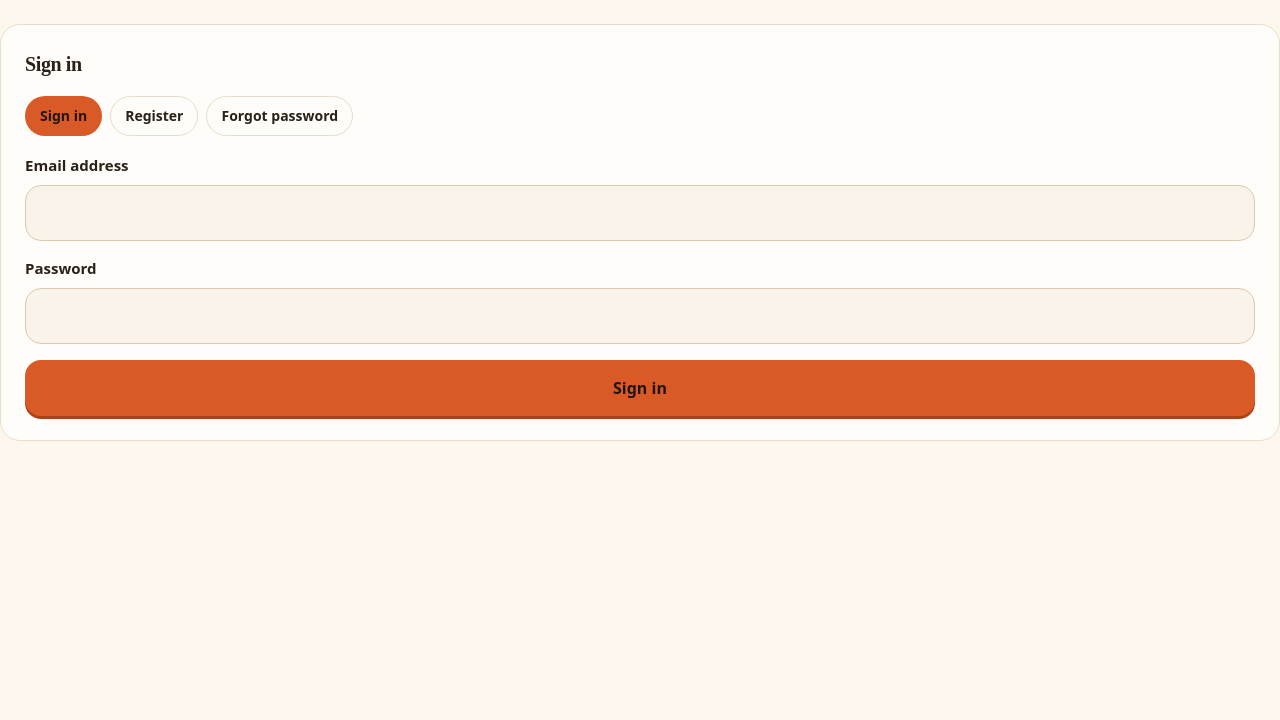
AuthPanel › tells a new account to go and confirm its address
The image size is (1280, 720).
Click the tab "Register": (154, 116) x1=110 y1=96 x2=198 y2=136
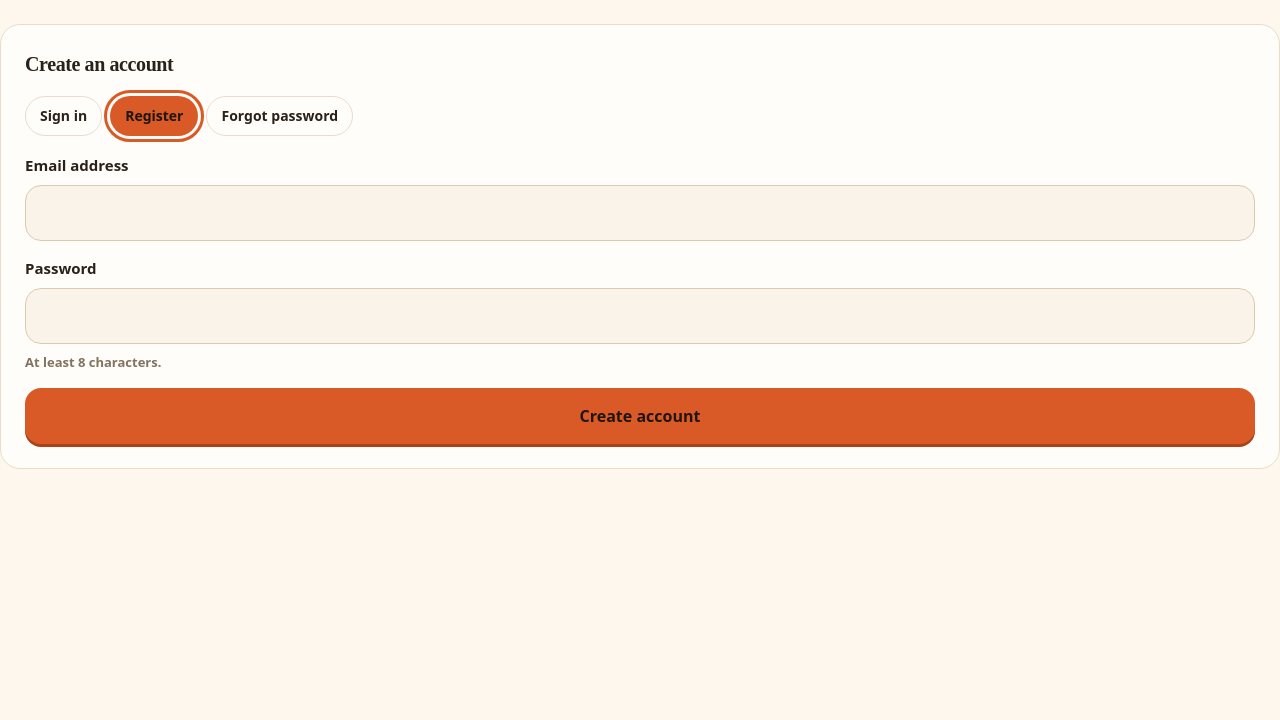
In the field labelled "Email address": (640, 213) x1=25 y1=185 x2=1255 y2=241, type "pending@example.com"
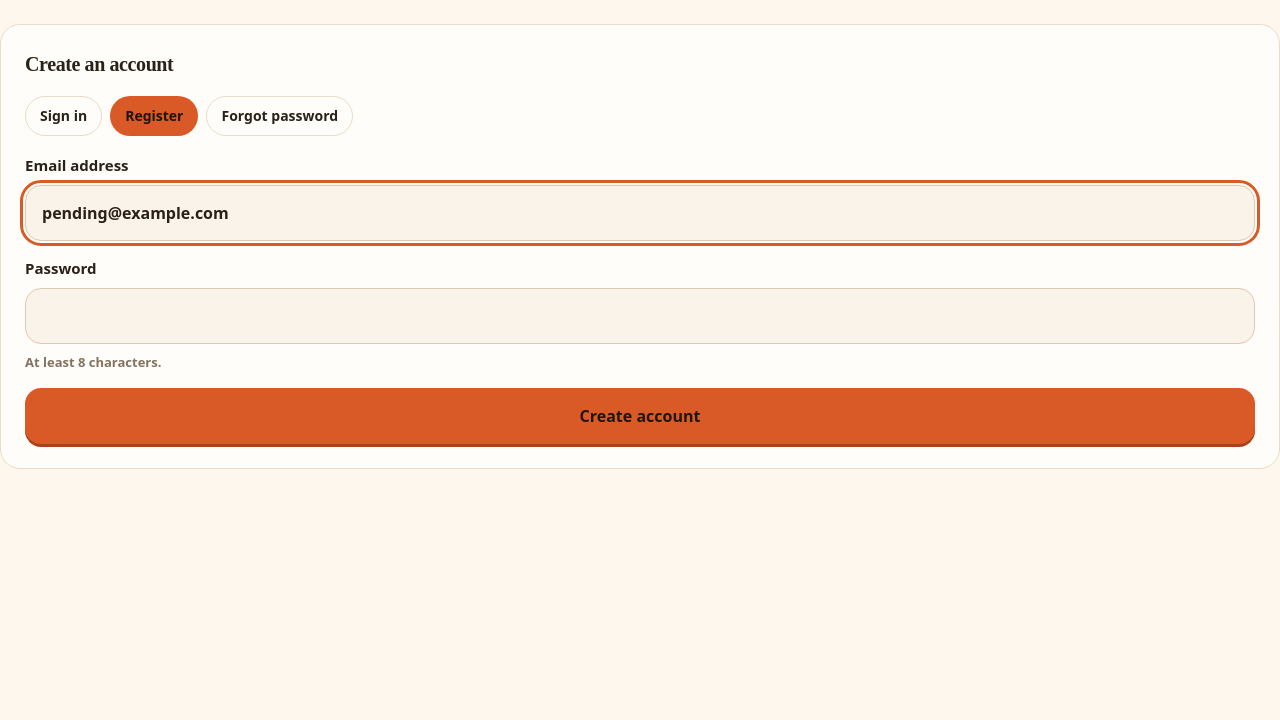
In the password field labelled "Password": (640, 316) x1=25 y1=288 x2=1255 y2=344, type "longenough"
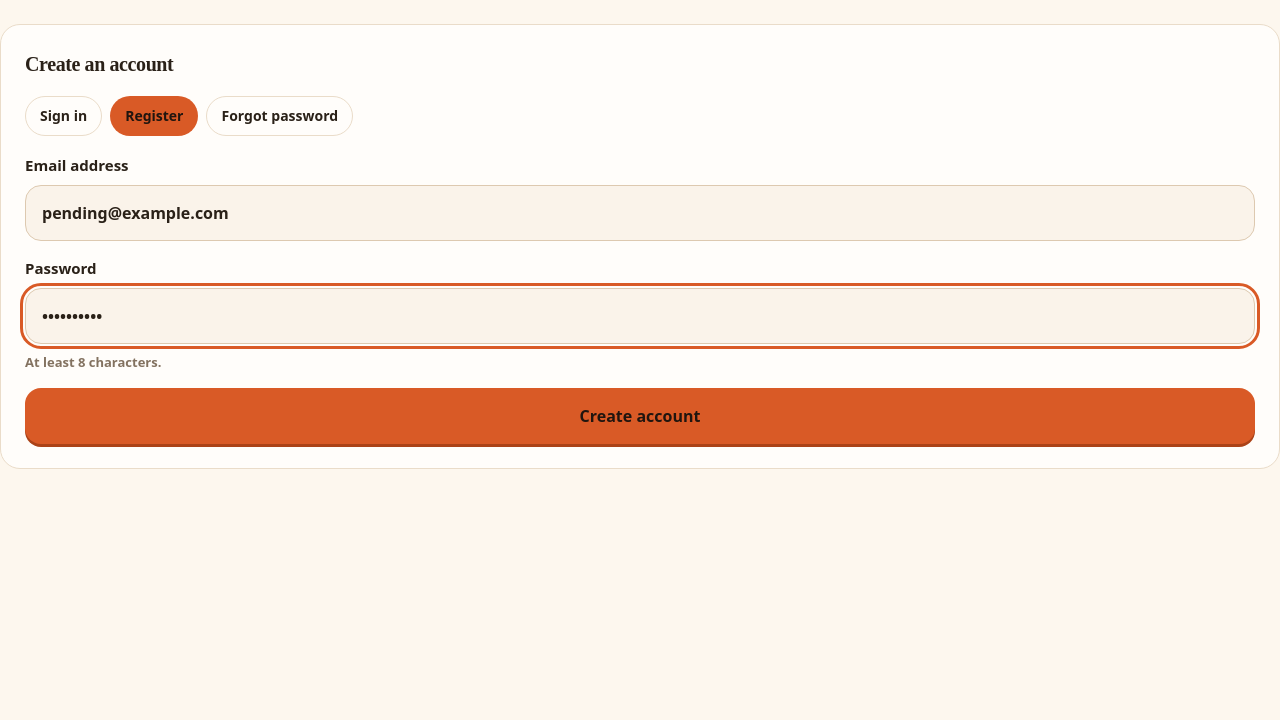
Click the button "Create account": (640, 416) x1=25 y1=388 x2=1255 y2=444
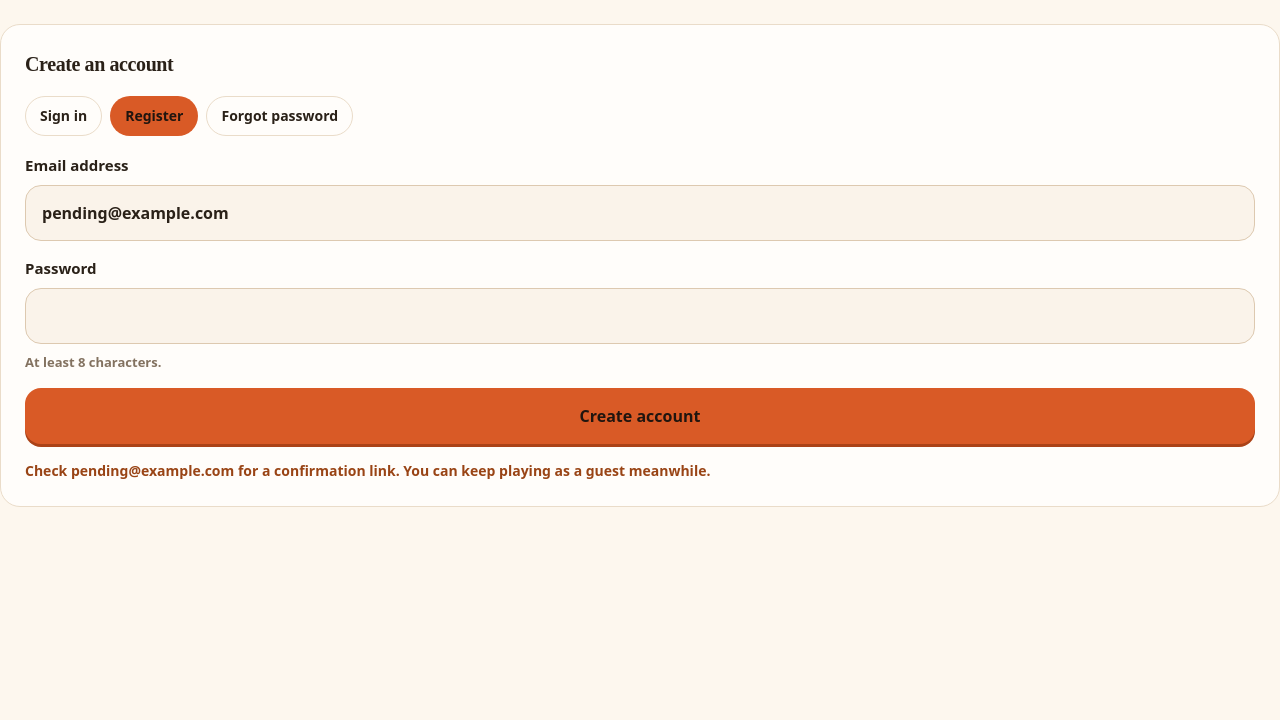
Expected: the message shows "Check pending@example.com for a confirmation link", x1=25 y1=461 x2=710 y2=480
